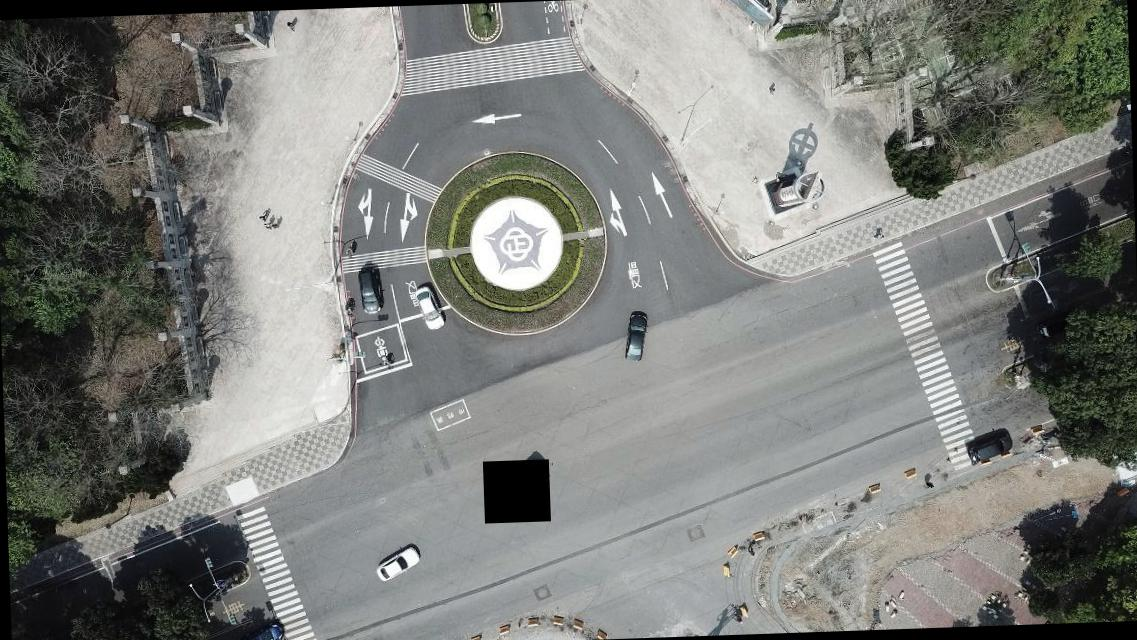vehicle: (374, 545, 421, 582), (966, 432, 1012, 466), (414, 284, 446, 332), (357, 264, 384, 314), (622, 312, 648, 360), (232, 620, 286, 639)
